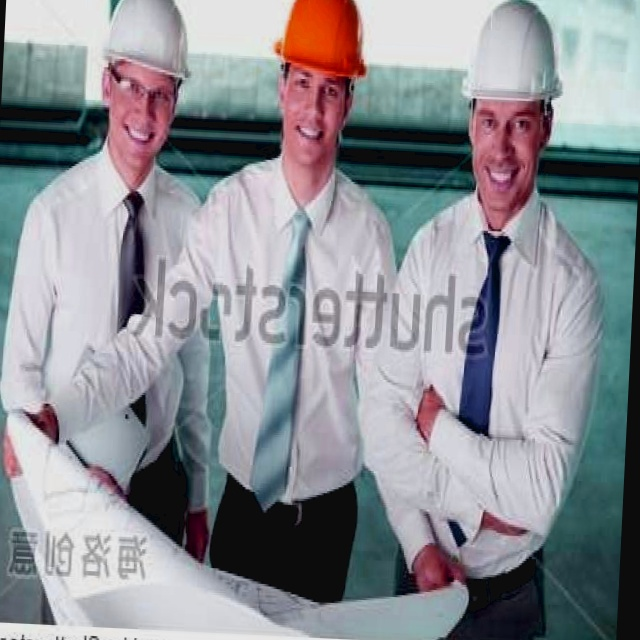Con_Casco: (461, 0, 563, 196), (274, 0, 370, 162), (102, 0, 193, 149)
